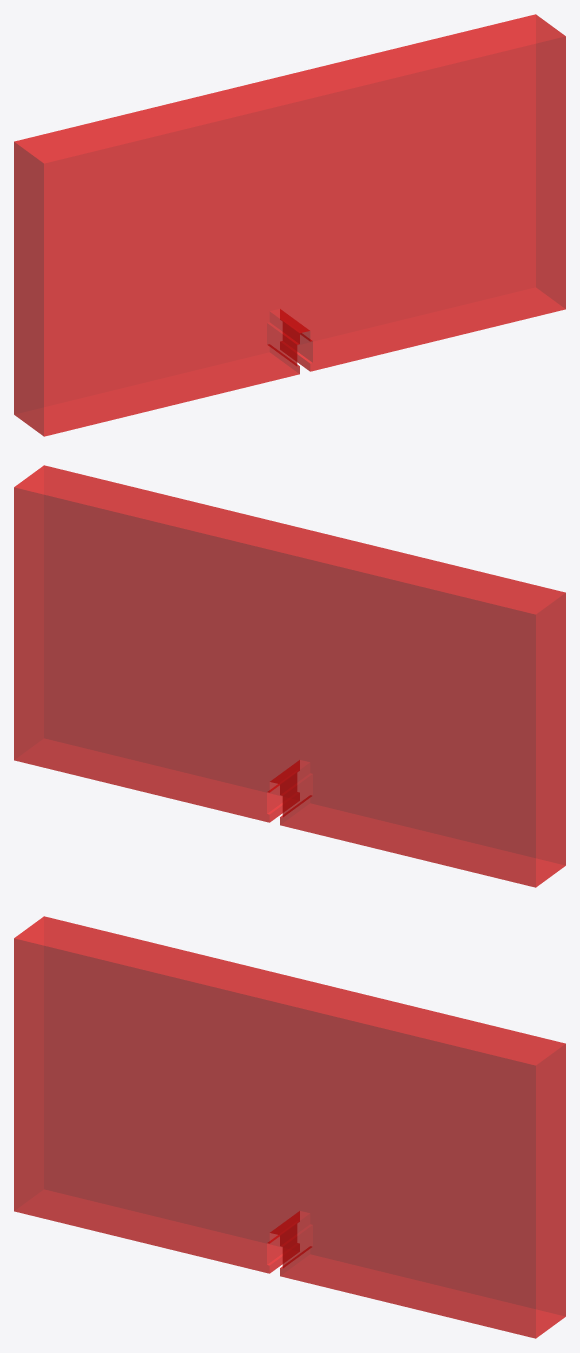
File: Walls5.glb
3 renders of one model, top to bottom at view 1: azimuth 30°, elevation 25°; view 2: azimuth 150°, elevation 25°; view 3: azimuth 330°, elevation 25°, orthographic.
Visible parts, largest first — view 1: Cube; view 2: Cube; view 3: Cube.
Part boxes in pixels (box(x1,y1,x2,y2)): Cube: box(14, 14, 565, 436); Cube: box(14, 465, 565, 887); Cube: box(14, 916, 565, 1338).
Bounding box in the file's own units: 20 × 10 × 2.
